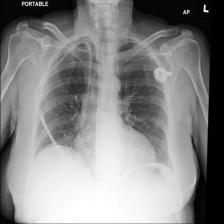normal: (28, 32, 180, 184)
